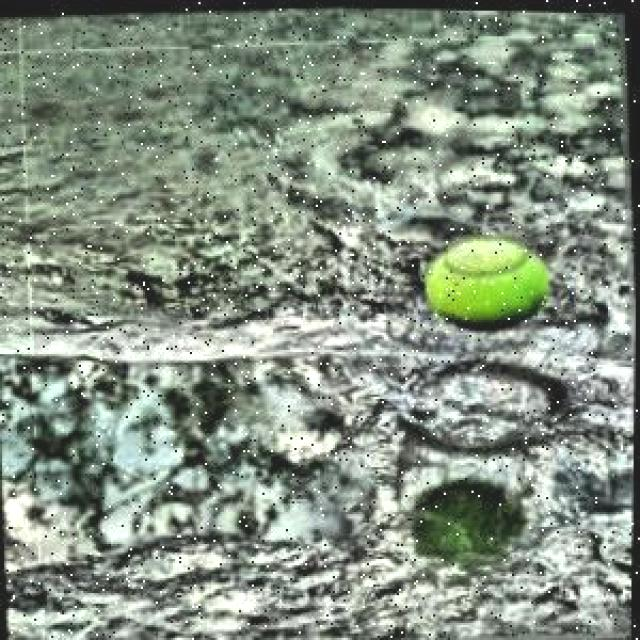tennis-ball: (423, 231, 551, 329)
